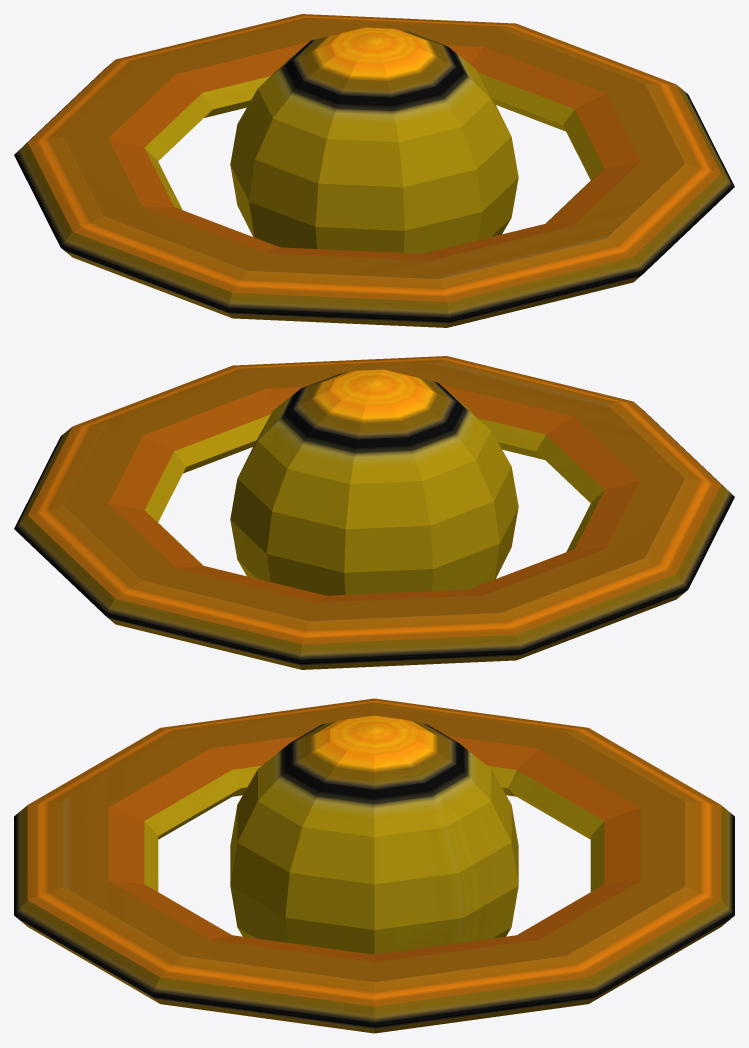
The model's file is planet.fbx.
3 views of the same model, one above another, from view 1: azimuth 30°, elevation 25°; view 2: azimuth 150°, elevation 25°; view 3: azimuth 270°, elevation 25° (orthographic). The views are drawn at different scales.
Visible parts, largest first — view 1: pSphere2; view 2: pSphere2; view 3: pSphere2.
Boxes of the visible parts, x1,y1,x2,y2 form: pSphere2: [14, 14, 734, 327]; pSphere2: [14, 356, 734, 669]; pSphere2: [14, 698, 734, 1033].
Bounding box in the file's own units: 15 × 6 × 14.27.
